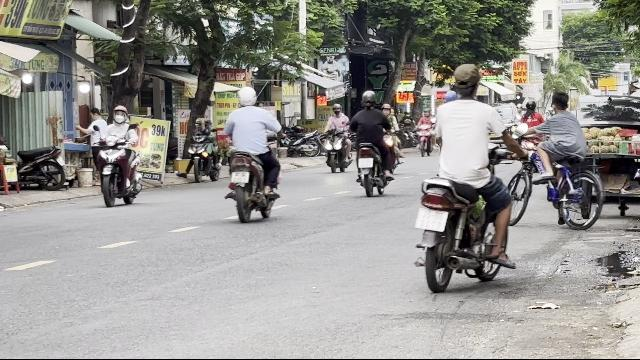helmet: (237, 86, 257, 106), (112, 104, 128, 124)
licenseplate: (416, 210, 446, 231), (232, 170, 248, 182)
motorcyclist: (412, 63, 530, 293), (222, 86, 282, 222), (94, 105, 144, 207)
nohelmet: (450, 64, 482, 99)
